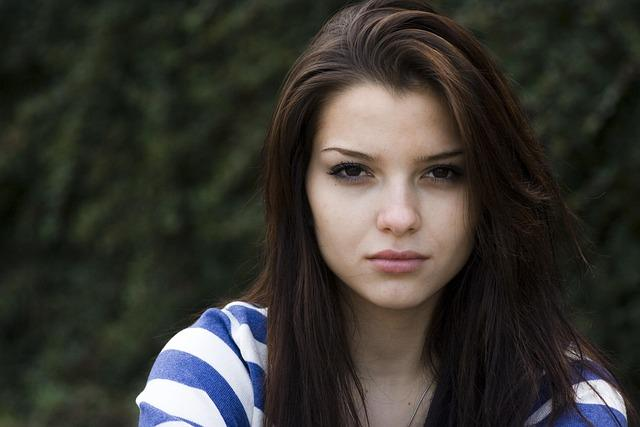Non_Gorille: (153, 2, 601, 427)
